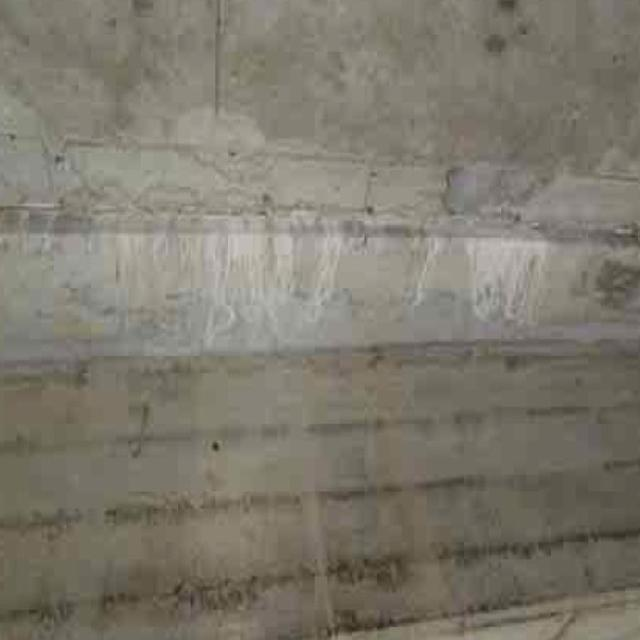freelime: (49, 207, 557, 342)
